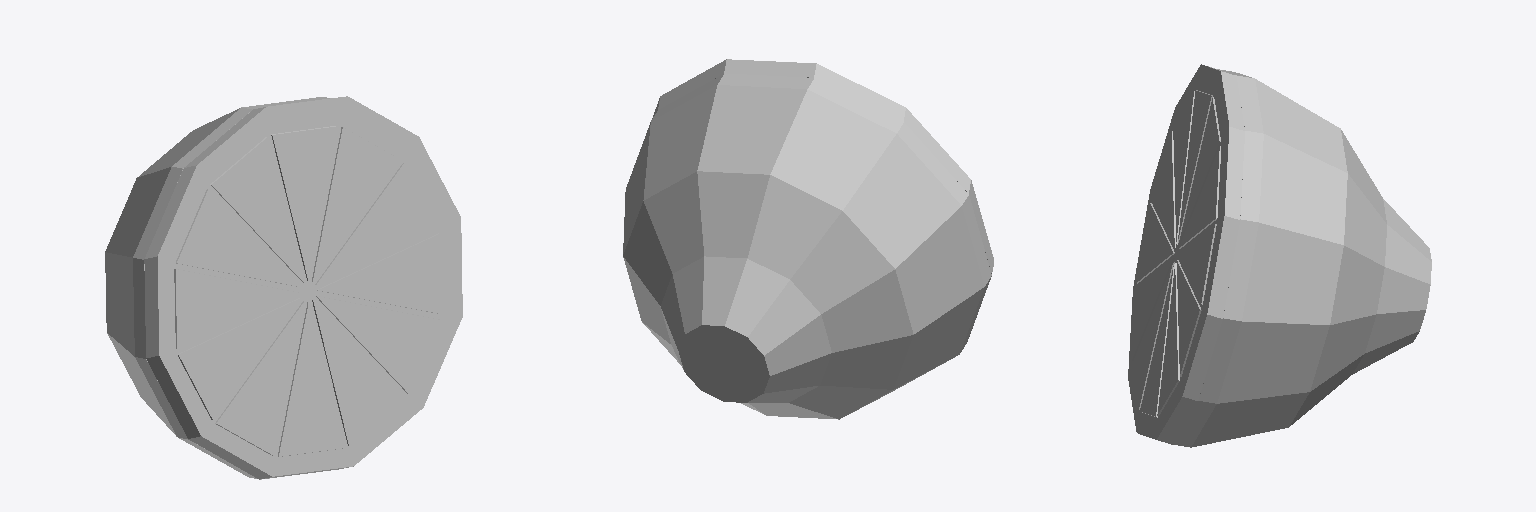
File: lime.obj
3 views of the same model, side by side, from view 1: azimuth 30°, elevation 25°; view 2: azimuth 150°, elevation 25°; view 3: azimuth 270°, elevation 25° (orthographic).
Visible parts, largest first — view 1: node_MeshObject-[number redacted]-PolyPaper9_mesh_m0-PolyPaper9_-19040; view 2: node_MeshObject-[number redacted]-PolyPaper9_mesh_m0-PolyPaper9_-19040; view 3: node_MeshObject-[number redacted]-PolyPaper9_mesh_m0-PolyPaper9_-19040.
Boxes of the visible parts, <box> form: node_MeshObject-[number redacted]-PolyPaper9_mesh_m0-PolyPaper9_-19040: <box>105,96,462,479</box>; node_MeshObject-[number redacted]-PolyPaper9_mesh_m0-PolyPaper9_-19040: <box>623,59,993,419</box>; node_MeshObject-[number redacted]-PolyPaper9_mesh_m0-PolyPaper9_-19040: <box>1128,64,1431,447</box>.
Size of the model in its own units: 0.2011 by 0.1998 by 0.1567.